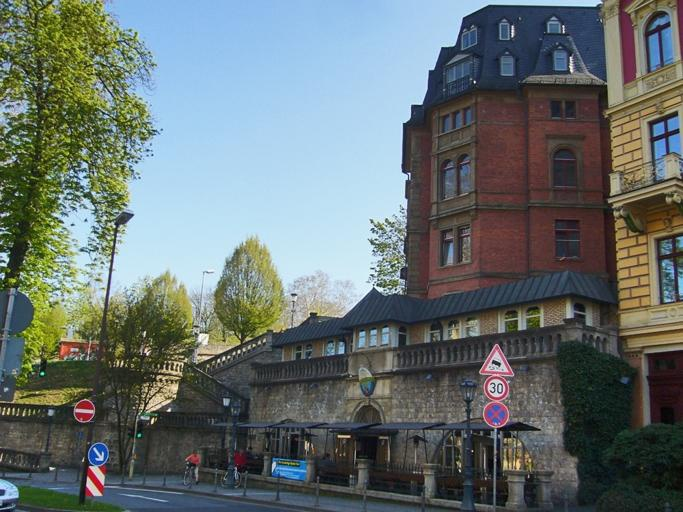non-vehicle: (218, 463, 241, 488), (182, 459, 196, 485)
